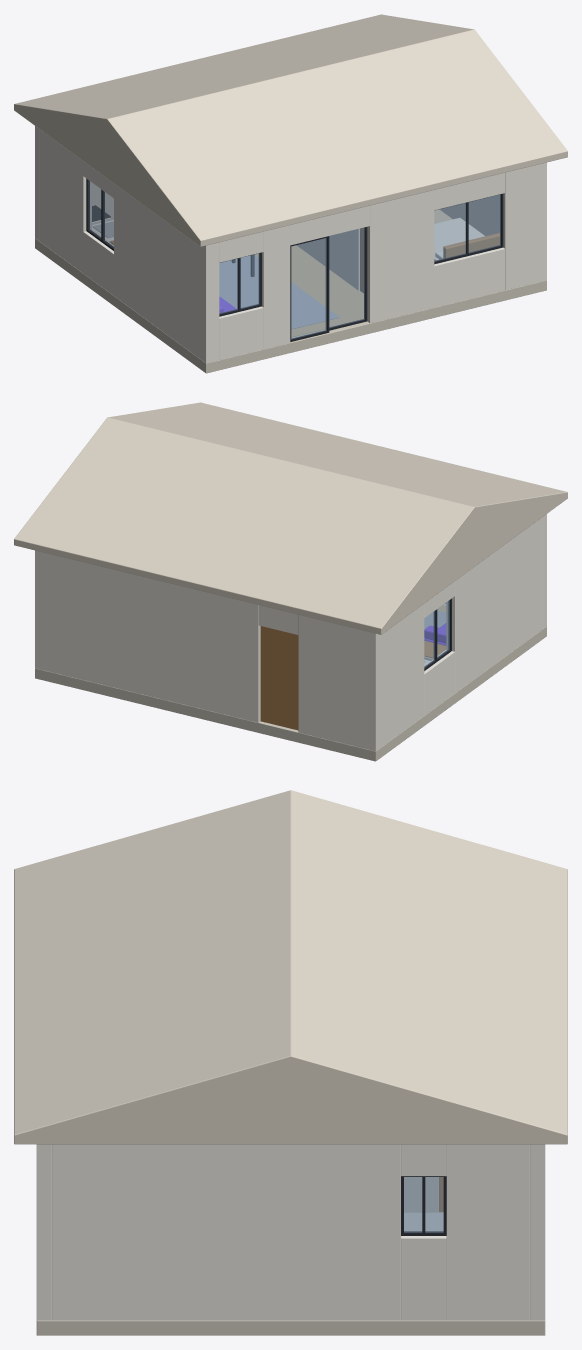
Rendered from laneway_house.glb.
The picture shows the model from 3 angles, top to bottom: view 1: azimuth 30°, elevation 25°; view 2: azimuth 150°, elevation 25°; view 3: azimuth 270°, elevation 25°; orthographic projection. The views are drawn at different scales.
Visible parts, largest first — view 1: roof, wall_garden, wall_west, floor_slab, slide_fixed, win_garden2, slide_moving, floor_live, furn_rug, win_garden1, wall_hall, furn_bed (+3 smaller); view 2: roof, wall_lane, wall_west, floor_slab, door_front, win_west, wall_garden; view 3: roof, wall_east, floor_slab, wall_garden, wall_lane, win_east, wall_hall, floor_bath.
Boxes of the visible parts, <box> form: roof: <box>14,14,567,246</box>; wall_garden: <box>201,162,546,363</box>; wall_west: <box>40,129,200,359</box>; floor_slab: <box>35,238,546,373</box>; slide_fixed: <box>290,236,329,341</box>; win_garden2: <box>434,193,503,264</box>; slide_moving: <box>325,227,367,330</box>; floor_live: <box>255,245,363,337</box>; furn_rug: <box>219,255,339,329</box>; win_garden1: <box>219,252,261,316</box>; wall_hall: <box>297,228,359,290</box>; furn_bed: <box>434,218,499,260</box>; roof: <box>14,402,567,634</box>; wall_lane: <box>35,550,380,751</box>; wall_west: <box>381,517,541,747</box>; floor_slab: <box>35,603,546,761</box>; door_front: <box>260,626,298,730</box>; win_west: <box>424,598,451,670</box>; wall_garden: <box>542,514,546,629</box>; roof: <box>14,790,567,1144</box>; wall_east: <box>52,1144,529,1320</box>; floor_slab: <box>36,1212,545,1335</box>; wall_garden: <box>36,1144,51,1320</box>; wall_lane: <box>530,1144,545,1320</box>; win_east: <box>401,1176,446,1235</box>; wall_hall: <box>404,1177,438,1212</box>; floor_bath: <box>404,1212,443,1231</box>.
Bounding box in the file's own units: 8.3 × 4.21 × 7.3.
